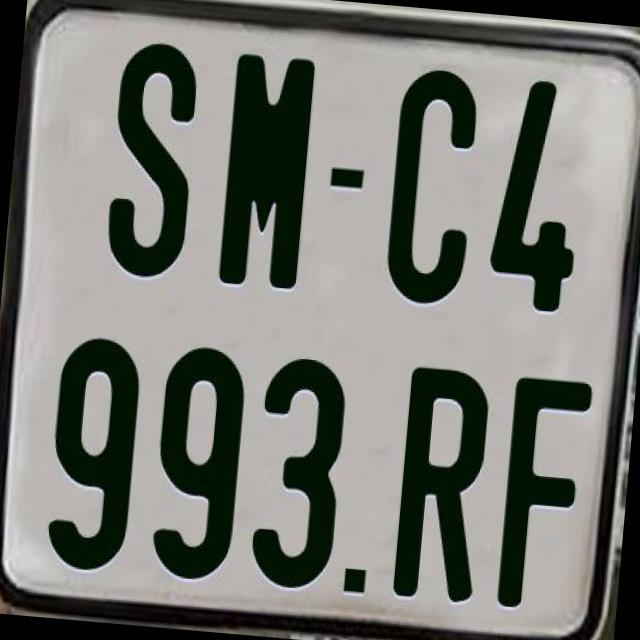3: (244, 350, 350, 596)
4: (483, 72, 594, 316)
9: (143, 342, 250, 587), (41, 332, 143, 578)
C: (380, 67, 480, 306)
F: (496, 372, 594, 608)
M: (218, 48, 316, 294)
R: (392, 363, 489, 600)
S: (102, 39, 208, 289)
